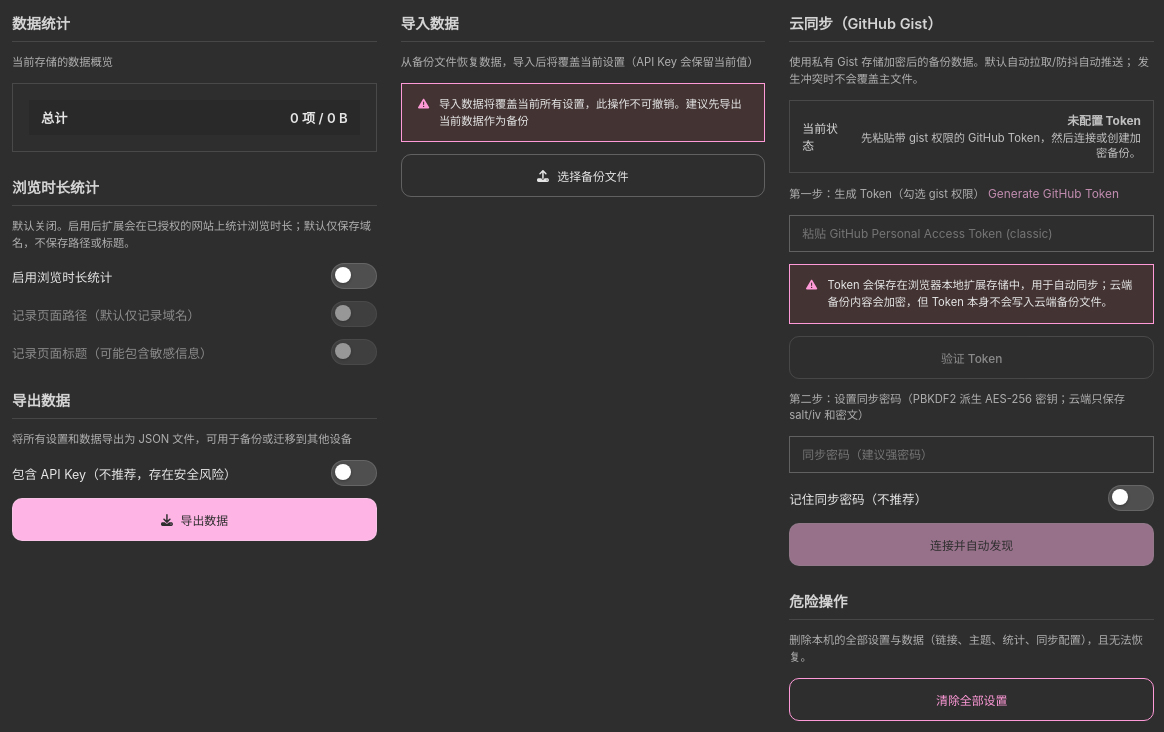
Test: DataSettings destructive replacement guard › revokes a newly granted broad permission when enabling cannot be saved
The image size is (1164, 732).
Click the switch labelled "启用浏览时长统计": click(62, 277) left=12, top=264, right=377, bottom=290
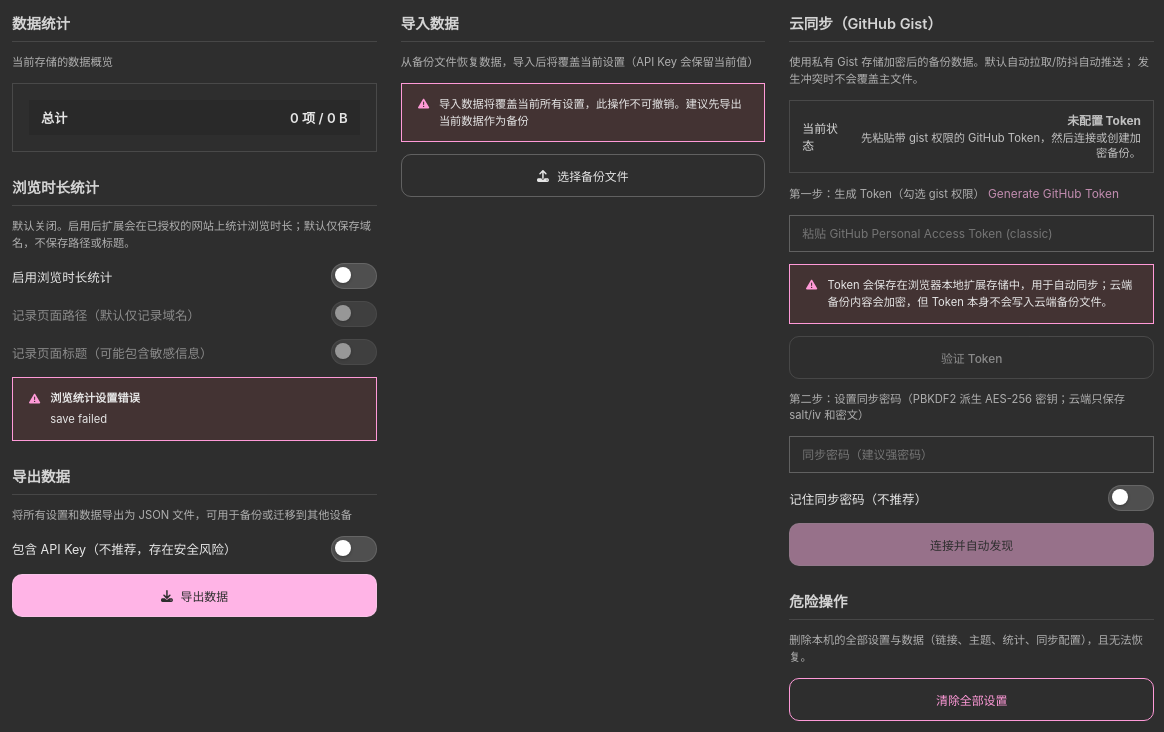
Check: the text "save failed" is shown, box left=50, top=412, right=107, bottom=426
